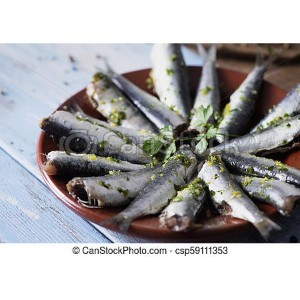sardine_brain food: (43, 65, 288, 217)
